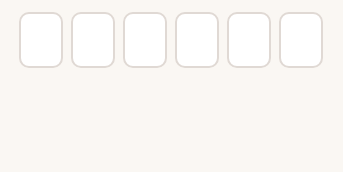
Test case: OtpInput › [P0-011] typing 6 digits fills all boxes sequentially
Click the field named "Dígito 1 de 6": (41, 40) [19,12,63,68]
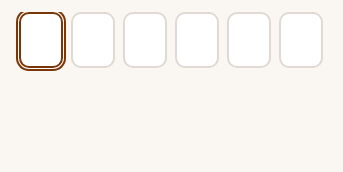
Type keys "123456"
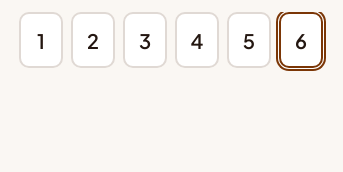
Now the field named "Dígito 1 de 6" holds "1", box [19,12,63,68]
Now the field named "Dígito 2 de 6" holds "2", box [71,12,115,68]
Now the field named "Dígito 3 de 6" holds "3", box [123,12,167,68]
